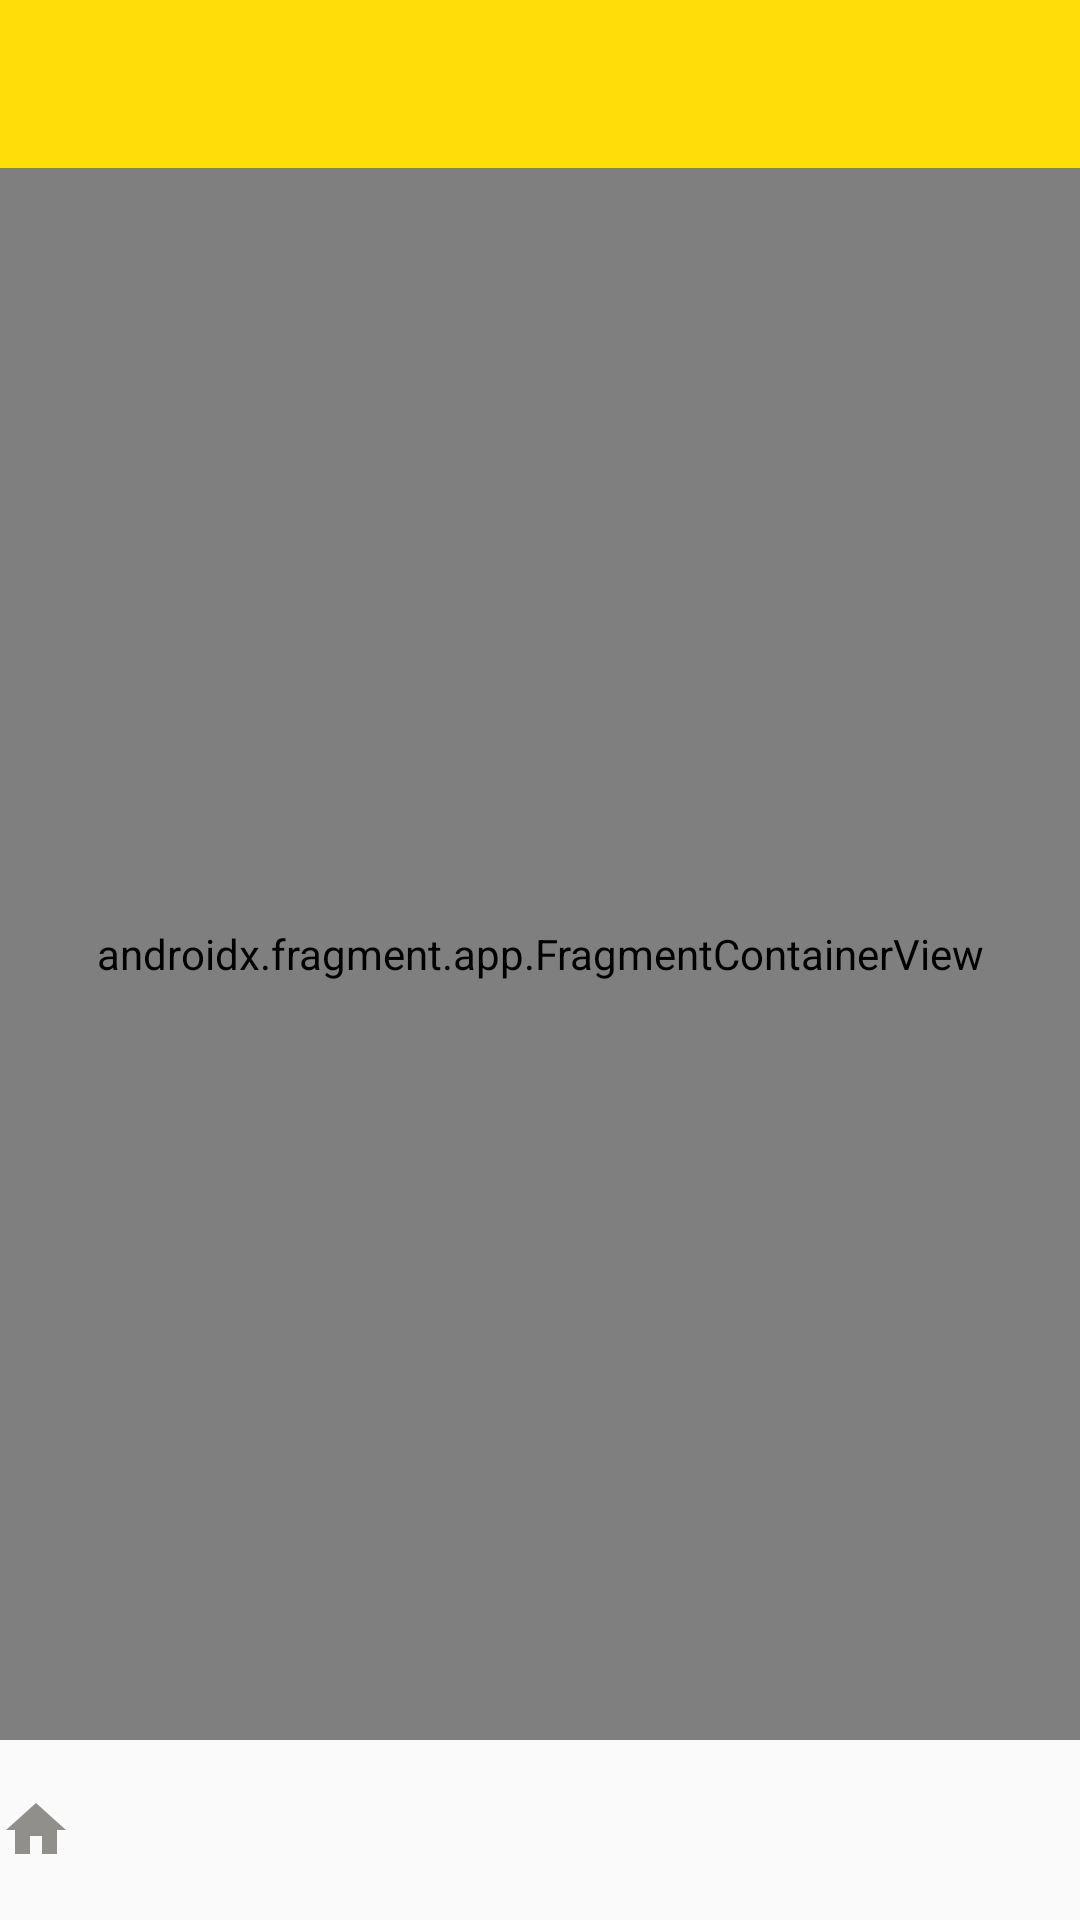

Locate icon controls on the screen. Image size 1080px x 1920px, boxes as box(x1, y1, x2, y2).
home: box(6, 1803, 66, 1854)
